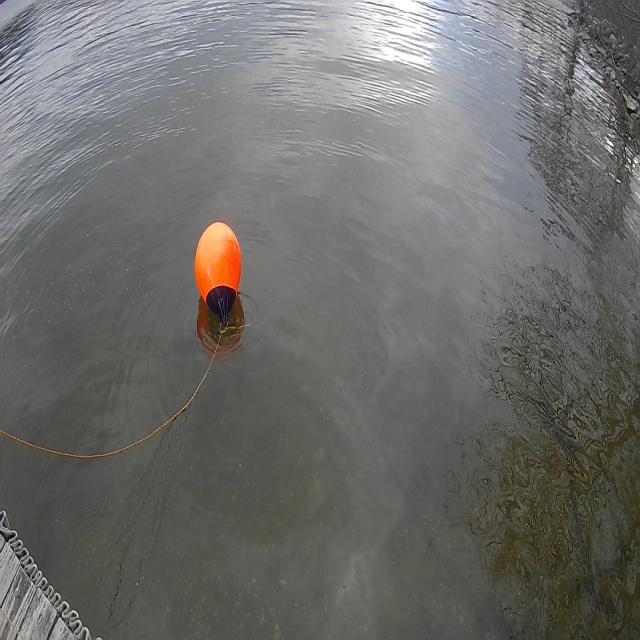Buoy: (193, 218, 245, 312)
